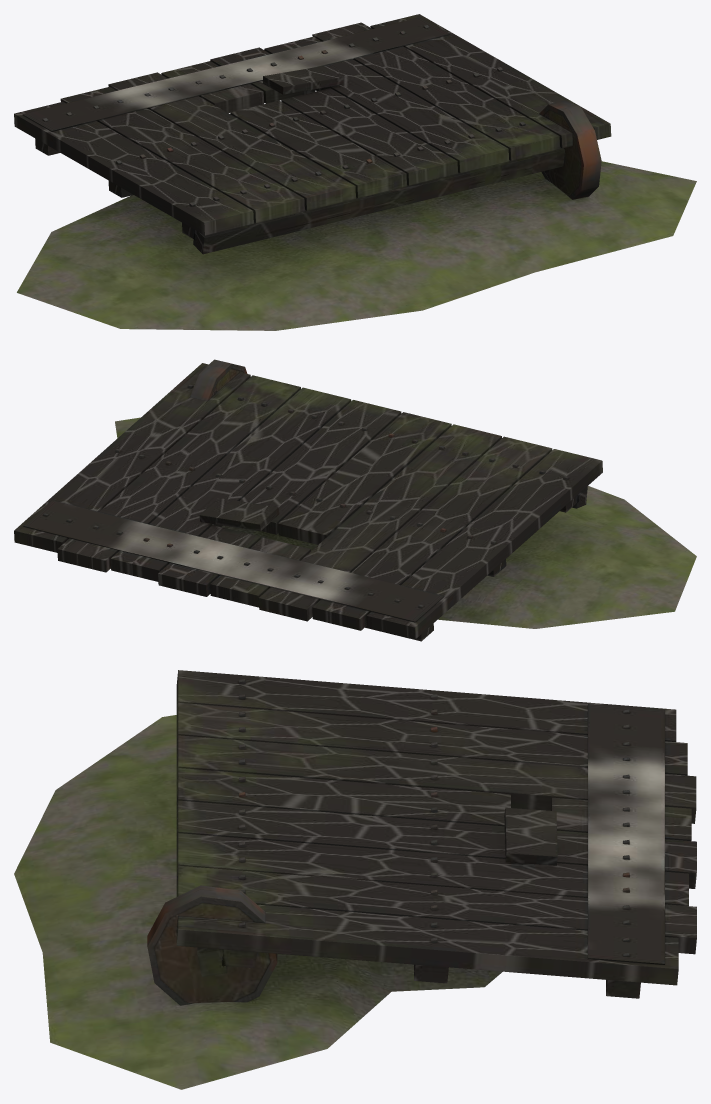
File: mantlet_burnt.glb
3 views of the same model, one above another, from view 1: azimuth 30°, elevation 25°; view 2: azimuth 150°, elevation 25°; view 3: azimuth 270°, elevation 25° (orthographic). The views are drawn at different scales.
Parts seen in each view (by area): view 1: body_LOD0; view 2: body_LOD0; view 3: body_LOD0.
Part boxes in pixels (box(x1,y1,x2,y2)): body_LOD0: box(14, 14, 696, 330); body_LOD0: box(14, 359, 696, 641); body_LOD0: box(14, 670, 696, 1089).
Size of what is drawn, in the model's own units: 3.67 by 0.5323 by 2.66.
2 materials, 2 textured.
